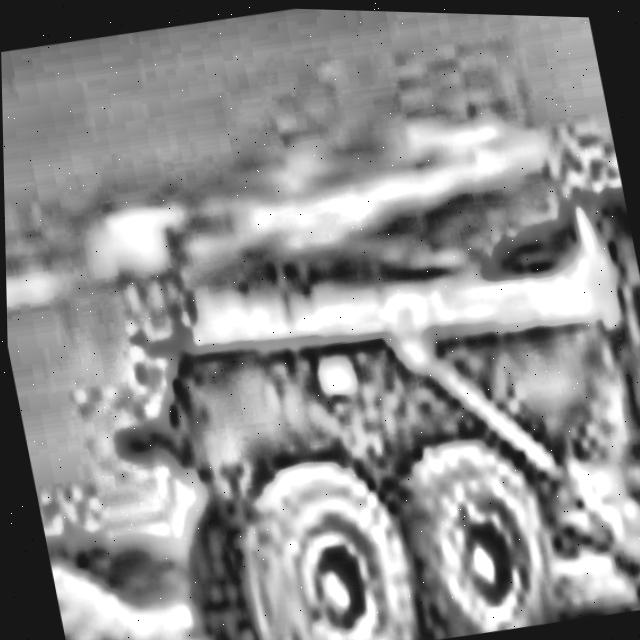dump_truck: (78, 143, 640, 640)
